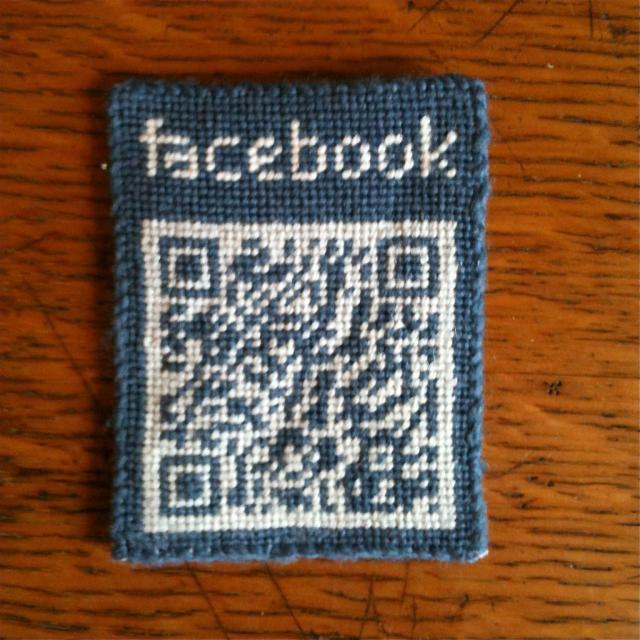qr-code: (158, 236, 440, 516)
